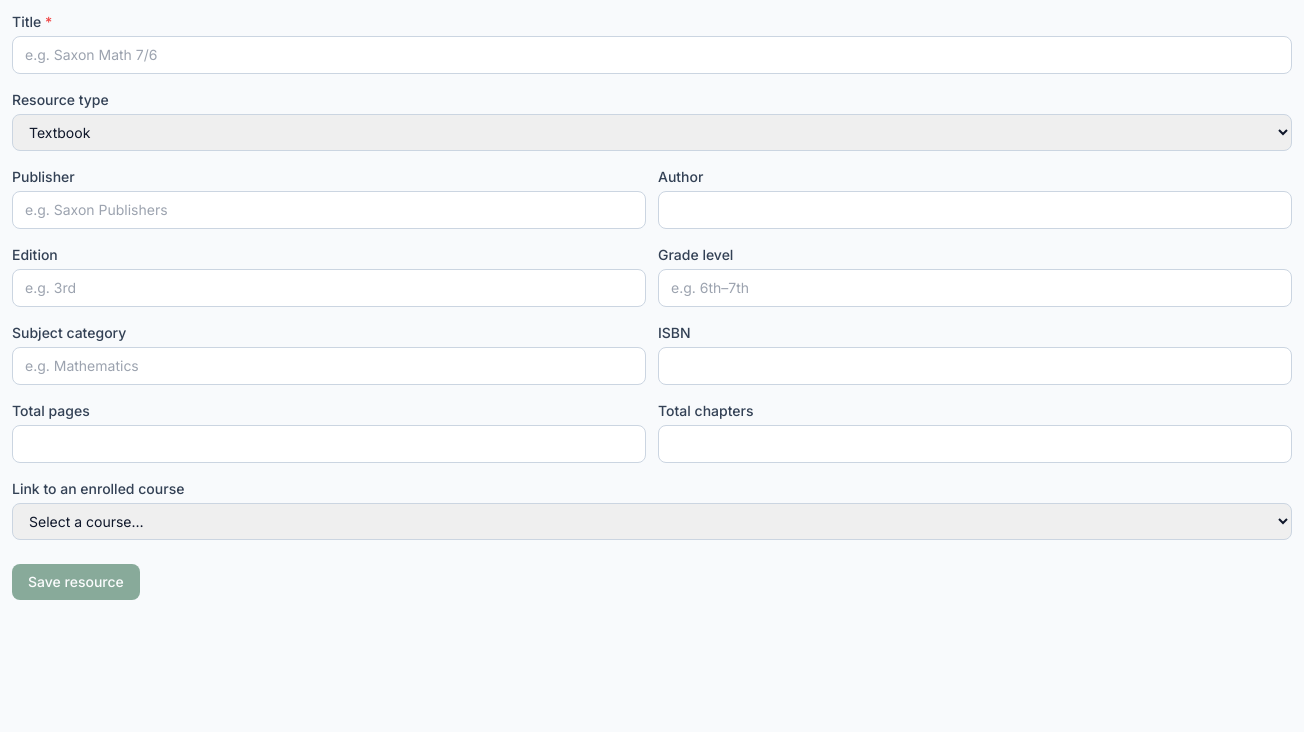
Scenario: ResourceForm › selecting a course from the dropdown shows it as a linked-course tag and removes it from the dropdown options
Step 1. Select "Algebra" in the dropdown with test id "resource-course-select" → point(652, 522), box [12, 503, 1292, 540]
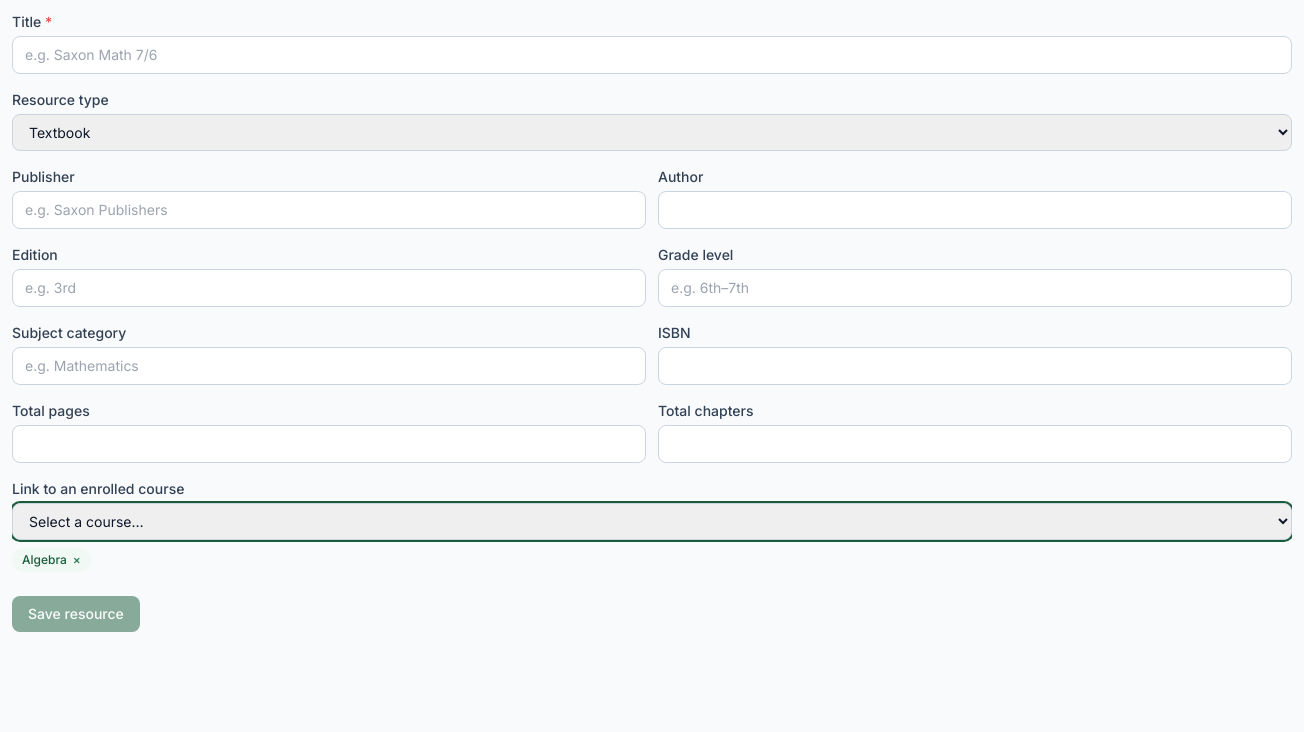
Expected: the element with test id "resource-course-tag-subject_1" is shown, [12, 548, 91, 572]
